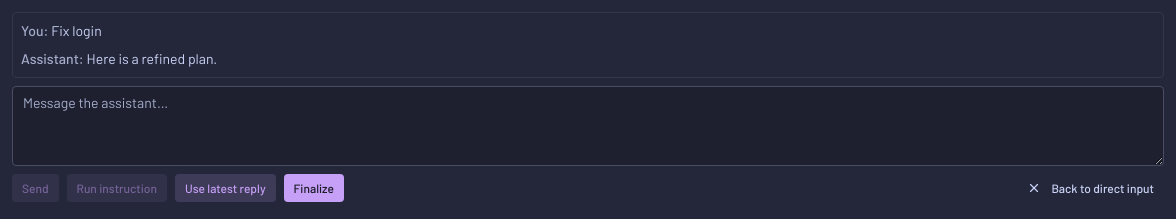
ComposerAssistPanel › runs the typed instruction via play with the reply as the task
Expected: the list item "Assistant: Here is a refined plan." is shown, left=21, top=50, right=217, bottom=67
Expected: the button "Run instruction" is disabled, left=67, top=174, right=167, bottom=202
Type "Focus on the submit handler" into the text box with placeholder "Message the assistant…" at (588, 126), box left=12, top=86, right=1164, bottom=166
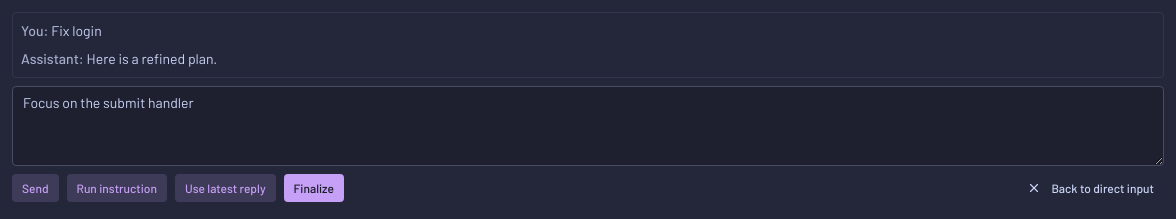
Now the button "Run instruction" is enabled
Click the button "Run instruction" at (117, 188), box left=67, top=174, right=167, bottom=202
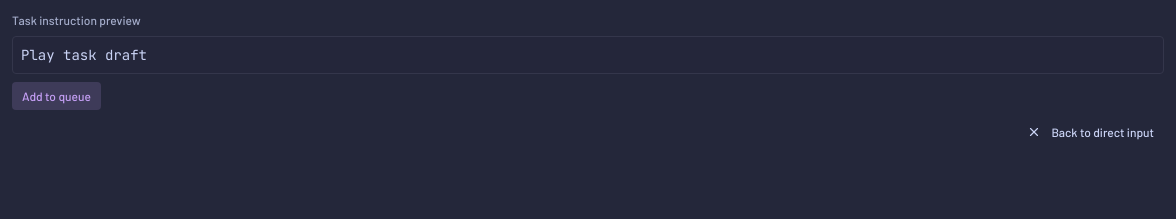
Now the text "Play task draft" is shown, box left=12, top=36, right=1164, bottom=74
